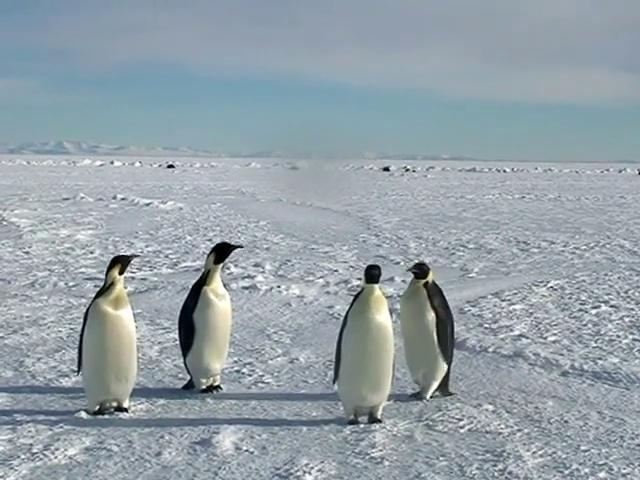animal: (334, 266, 395, 425)
